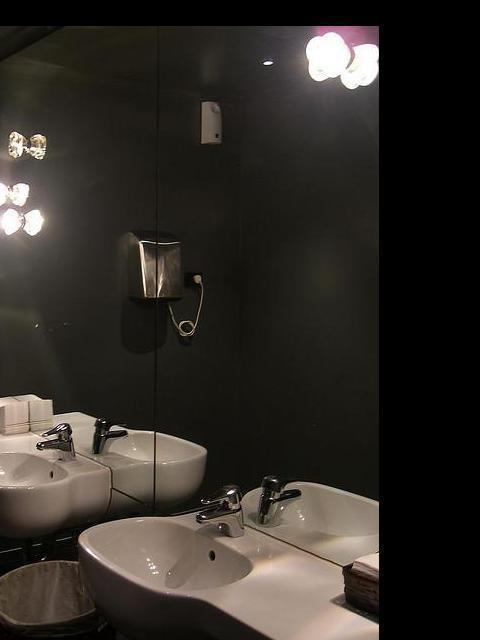Bote de Basura: (0, 556, 109, 640)
Lavamanos: (84, 478, 265, 640), (0, 421, 109, 539)
